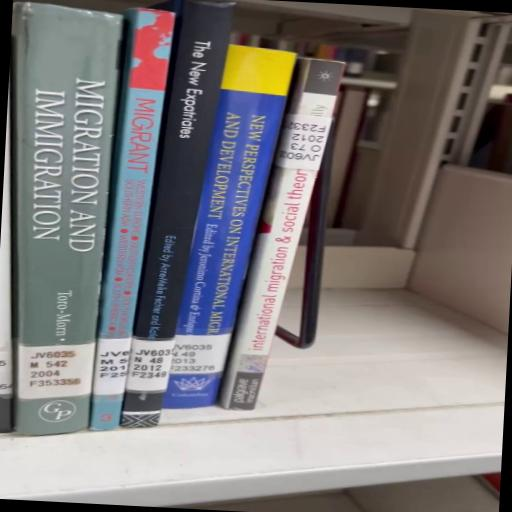reverse: (220, 59, 345, 411)
